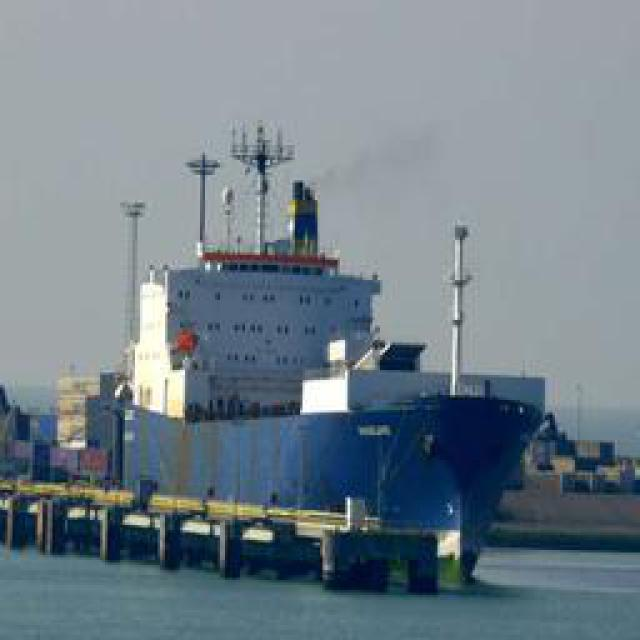Ship: (15, 115, 556, 596)
